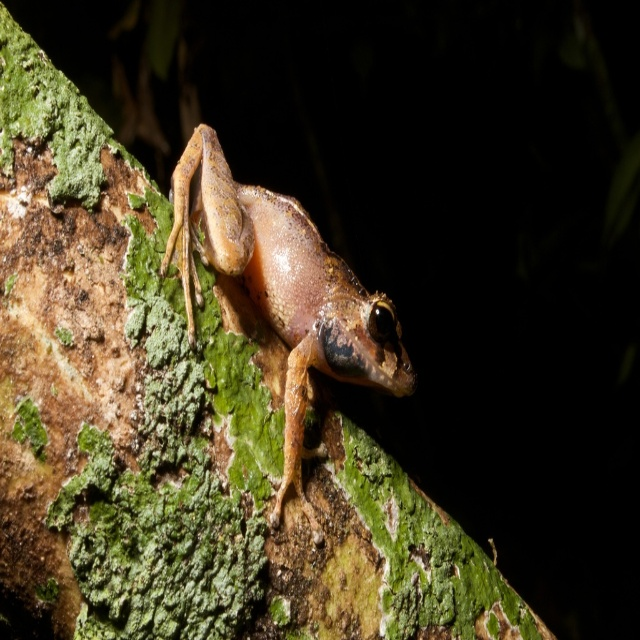Frog: (160, 125, 415, 543)
